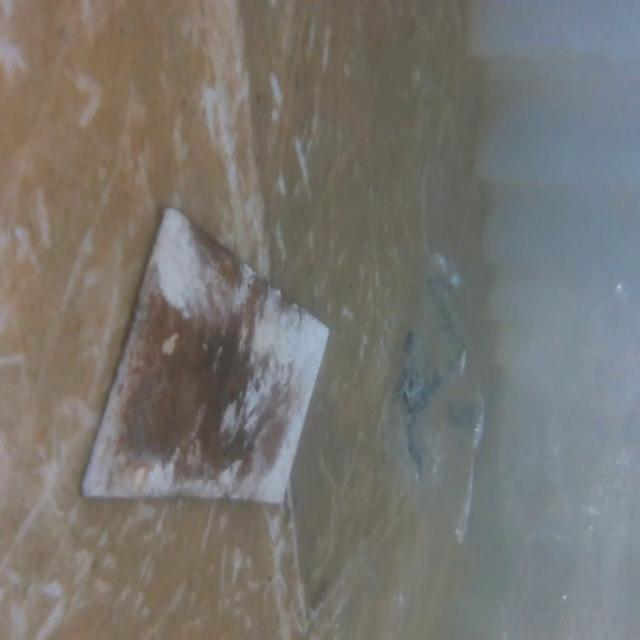metal: (70, 196, 335, 513)
plastic bags: (378, 246, 501, 564)
